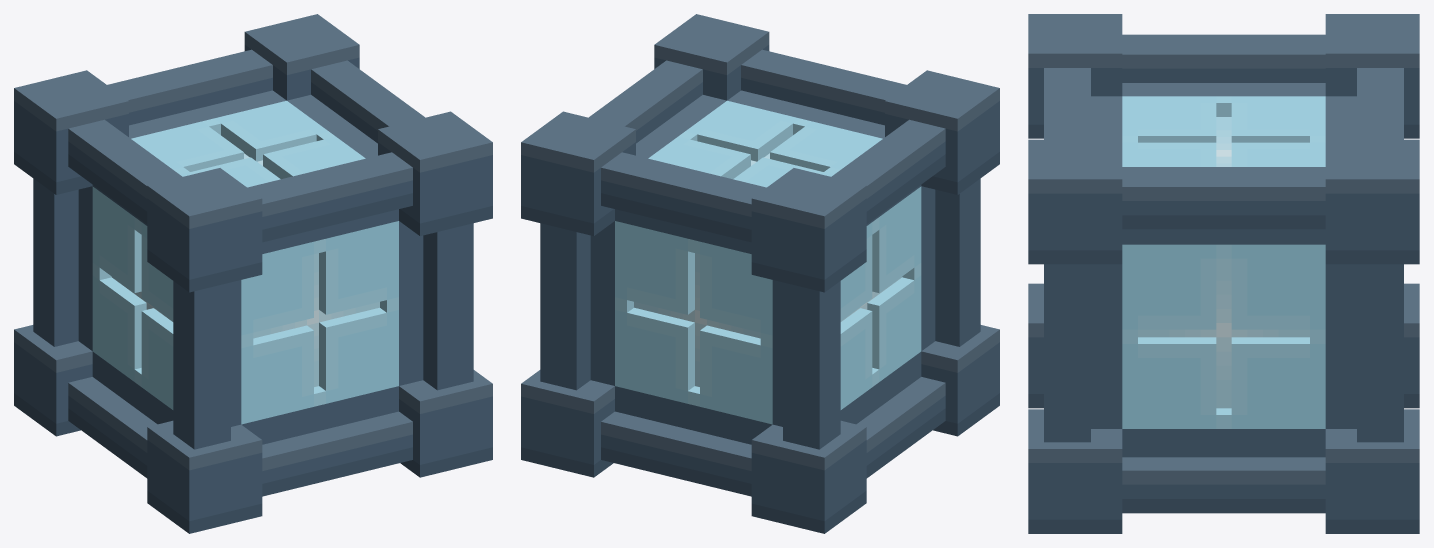
Rendered from buz_g1.glb.
3 views of the same model, side by side, from view 1: azimuth 30°, elevation 25°; view 2: azimuth 150°, elevation 25°; view 3: azimuth 270°, elevation 25° (orthographic). The views are drawn at different scales.
Visible parts, largest first — view 1: model_0; view 2: model_0; view 3: model_0.
Part boxes in pixels (left/top/right/bottom): model_0: left=14, top=14, right=492, bottom=533; model_0: left=521, top=14, right=999, bottom=533; model_0: left=1028, top=14, right=1419, bottom=533.
Size of the model in its own units: 1 by 1 by 1.
